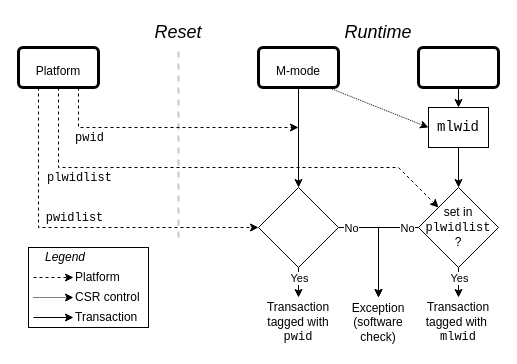
This 517x364 diagram has some shape labels left out. Here are the shapes that lost their labels. From the top down, the centre of each, then its label:
the point at 458,67: S/U-modes
the point at 298,227: set in pwidlist ?
